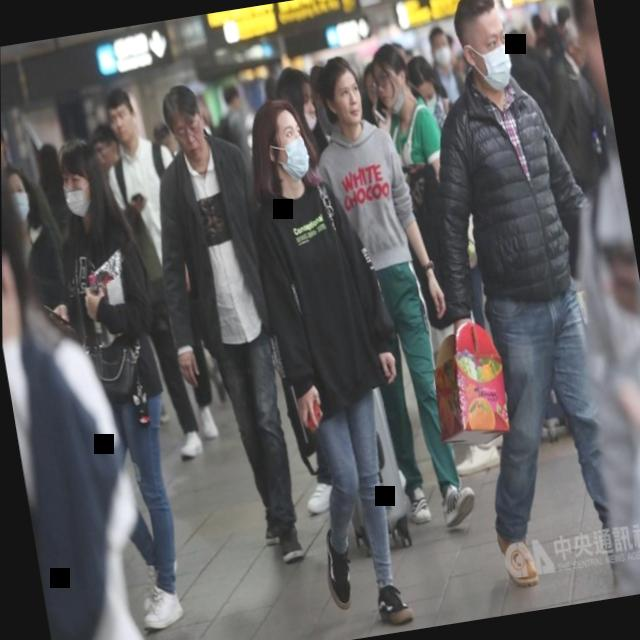Mask: (444, 0, 520, 104), (244, 90, 317, 196), (48, 133, 109, 222), (1, 160, 36, 228)
NO-Mask: (312, 50, 367, 136), (159, 82, 212, 171), (363, 39, 414, 122), (98, 86, 142, 149), (1, 112, 12, 174)
